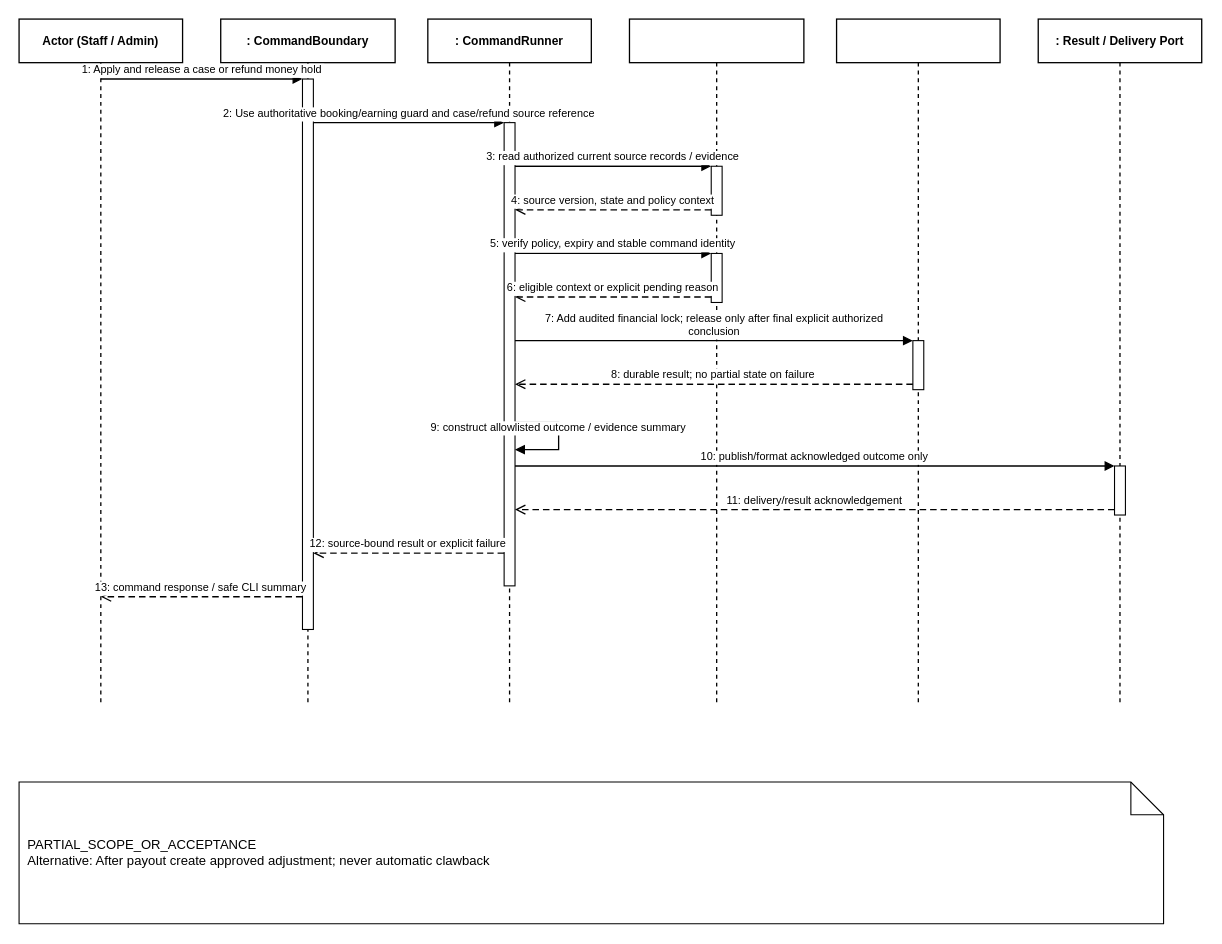
Some shapes in this 1222 by 944 pixel diagram are drawn without their labels. The box of each missing label's shape, as (x1, y1, x2, y2) in pixels:
: GuardedPersistence: (835, 18, 1000, 706)
: SourceRepository: (628, 18, 804, 706)
